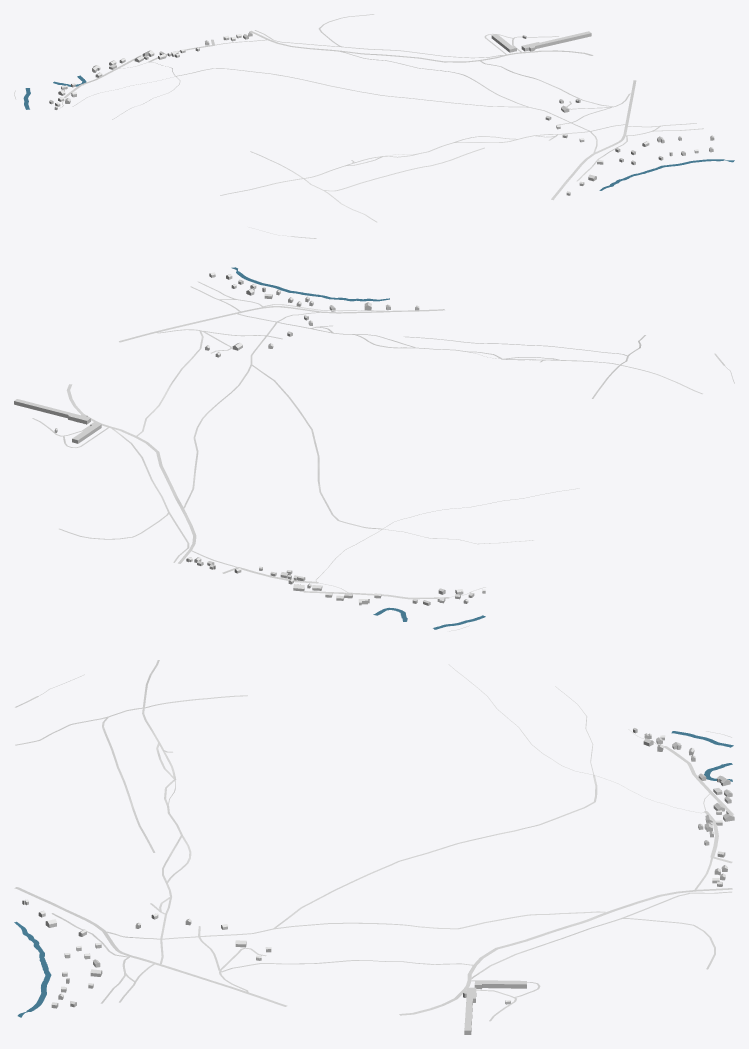
Rendered from objekty.glb.
3 renders of one model, top to bottom at view 1: azimuth 30°, elevation 25°; view 2: azimuth 150°, elevation 25°; view 3: azimuth 270°, elevation 25°, orthographic. The views are drawn at different scales.
Visible parts, largest first — view 1: Cesty_03_02, Budovy_03_02, Voda_03_02; view 2: Cesty_03_02, Budovy_03_02, Voda_03_02; view 3: Cesty_03_02, Budovy_03_02, Voda_03_02.
Boxes of the visible parts, x1,y1,x2,y2 form: Cesty_03_02: [14, 14, 703, 238]; Budovy_03_02: [49, 31, 714, 195]; Voda_03_02: [23, 75, 734, 190]; Cesty_03_02: [32, 281, 734, 631]; Budovy_03_02: [14, 272, 485, 605]; Voda_03_02: [231, 267, 485, 629]; Cesty_03_02: [14, 660, 733, 1021]; Budovy_03_02: [22, 728, 734, 1034]; Voda_03_02: [14, 731, 733, 1017].
Size of the model in its own units: 1057 by 126 by 1008.
